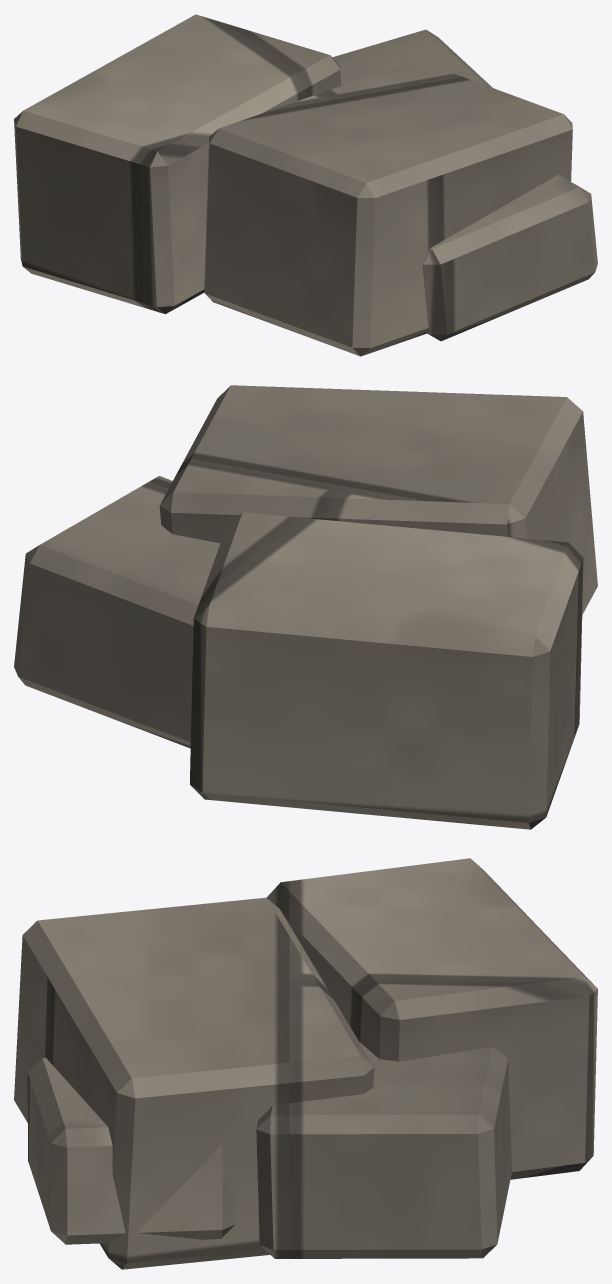
The model's file is Prop_Rubble.fbx.
3 views of the same model, one above another, from view 1: azimuth 30°, elevation 25°; view 2: azimuth 150°, elevation 25°; view 3: azimuth 270°, elevation 25° (orthographic). The views are drawn at different scales.
Visible parts, largest first — view 1: Prop_Rubble; view 2: Prop_Rubble; view 3: Prop_Rubble.
Boxes of the visible parts, left/top/right/bottom form: Prop_Rubble: left=14, top=14, right=597, bottom=356; Prop_Rubble: left=14, top=385, right=597, bottom=829; Prop_Rubble: left=14, top=858, right=597, bottom=1269.
Bounding box in the file's own units: 0.7942 × 0.3334 × 0.7855.
